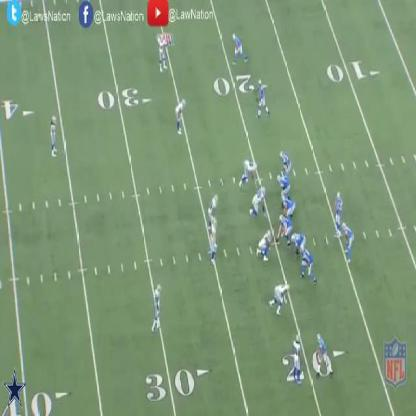CENTER: (279, 215, 291, 244)
DB: (291, 333, 302, 384), (152, 283, 162, 327), (158, 33, 168, 73), (174, 97, 185, 133), (51, 116, 57, 156)
LB: (210, 219, 219, 264), (206, 191, 218, 216)
QB: (335, 192, 341, 237)
SKILL: (314, 330, 330, 375), (255, 78, 271, 116), (343, 223, 356, 265), (232, 32, 248, 64), (278, 149, 292, 173)
